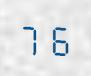seven: (19, 19, 44, 55)
six: (45, 20, 70, 56)
